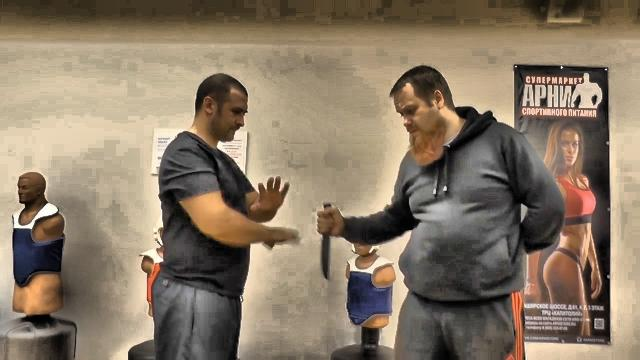knife: (314, 201, 338, 283)
